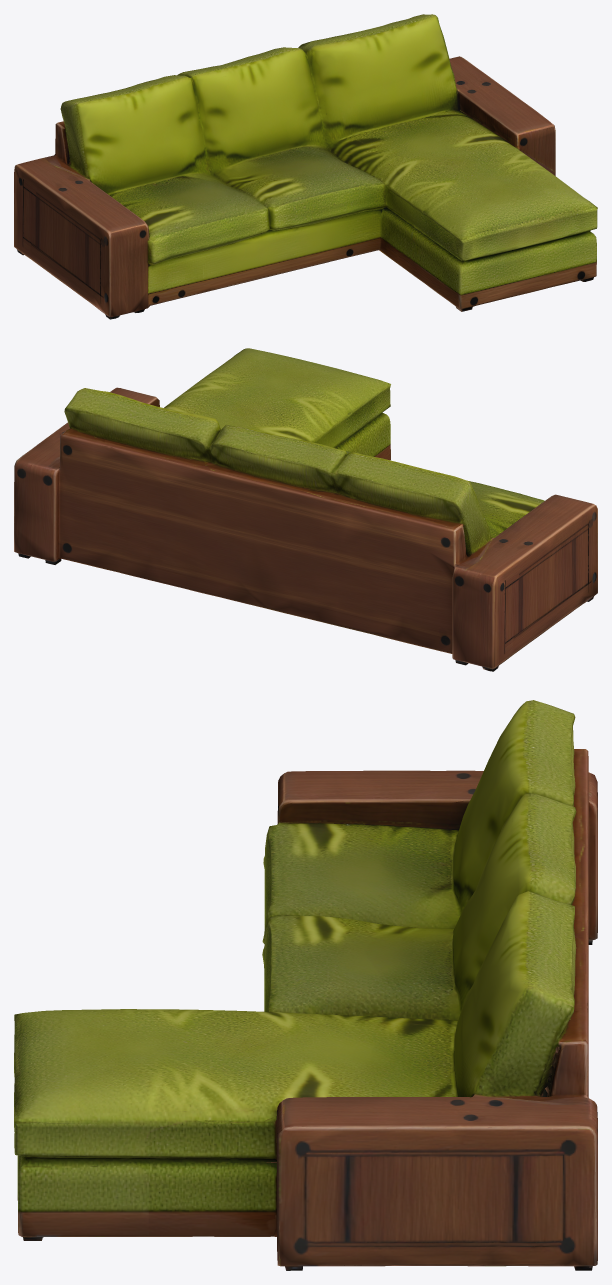
File: Meshy_AI_Plum_Elegance_Sofa_0107192716_texture.fbx
3 views of the same model, one above another, from view 1: azimuth 30°, elevation 25°; view 2: azimuth 150°, elevation 25°; view 3: azimuth 270°, elevation 25° (orthographic). The views are drawn at different scales.
Visible parts, largest first — view 1: Mesh_0; view 2: Mesh_0; view 3: Mesh_0.
Boxes of the visible parts, x1,y1,x2,y2 form: Mesh_0: (14, 14, 597, 319); Mesh_0: (14, 348, 597, 671); Mesh_0: (14, 700, 597, 1270).
Size of the model in its own units: 191 by 62.51 by 132.
Materials: 1 (1 with a texture image).
